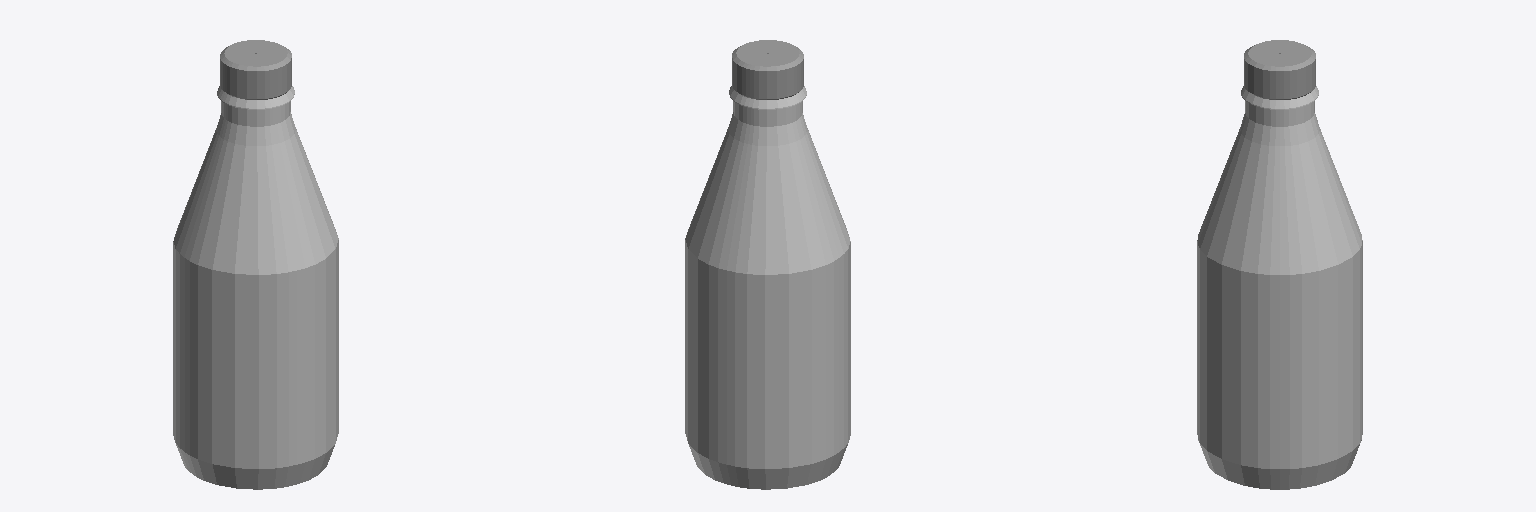
File: Bottle.obj
3 views of the same model, side by side, from view 1: azimuth 30°, elevation 25°; view 2: azimuth 150°, elevation 25°; view 3: azimuth 270°, elevation 25° (orthographic).
Parts seen in each view (by area): view 1: Bottle_SurfCircle, Cap_SurfCircle.001; view 2: Bottle_SurfCircle, Cap_SurfCircle.001; view 3: Bottle_SurfCircle, Cap_SurfCircle.001.
Boxes of the visible parts, box(x1,y1,x2,y2) form: Bottle_SurfCircle: box(173, 86, 338, 489); Cap_SurfCircle.001: box(220, 40, 291, 99); Bottle_SurfCircle: box(685, 86, 850, 489); Cap_SurfCircle.001: box(732, 40, 803, 99); Bottle_SurfCircle: box(1197, 86, 1362, 489); Cap_SurfCircle.001: box(1244, 40, 1315, 99).
Size of the model in its own units: 0.7516 by 2.04 by 0.7516.